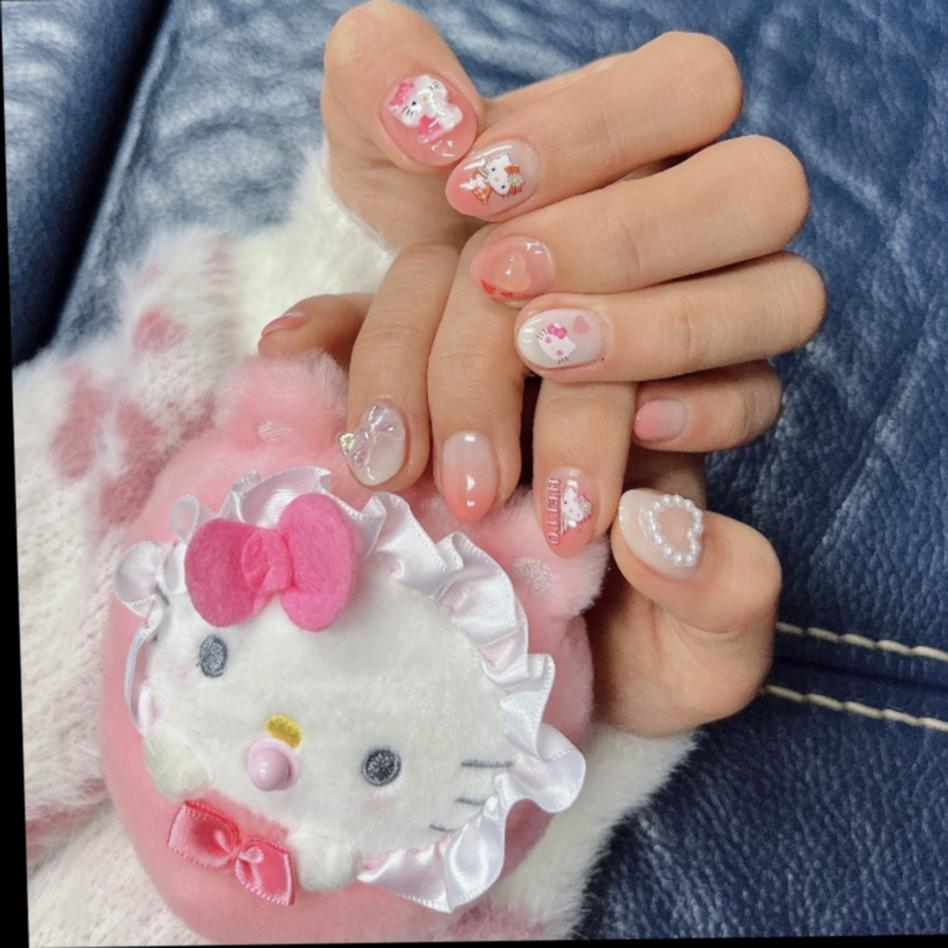nail: (378, 70, 480, 167), (442, 136, 542, 220), (616, 485, 706, 578), (336, 400, 410, 485), (513, 304, 606, 371), (471, 231, 557, 302), (439, 428, 502, 522), (540, 465, 601, 555), (631, 396, 688, 442)
